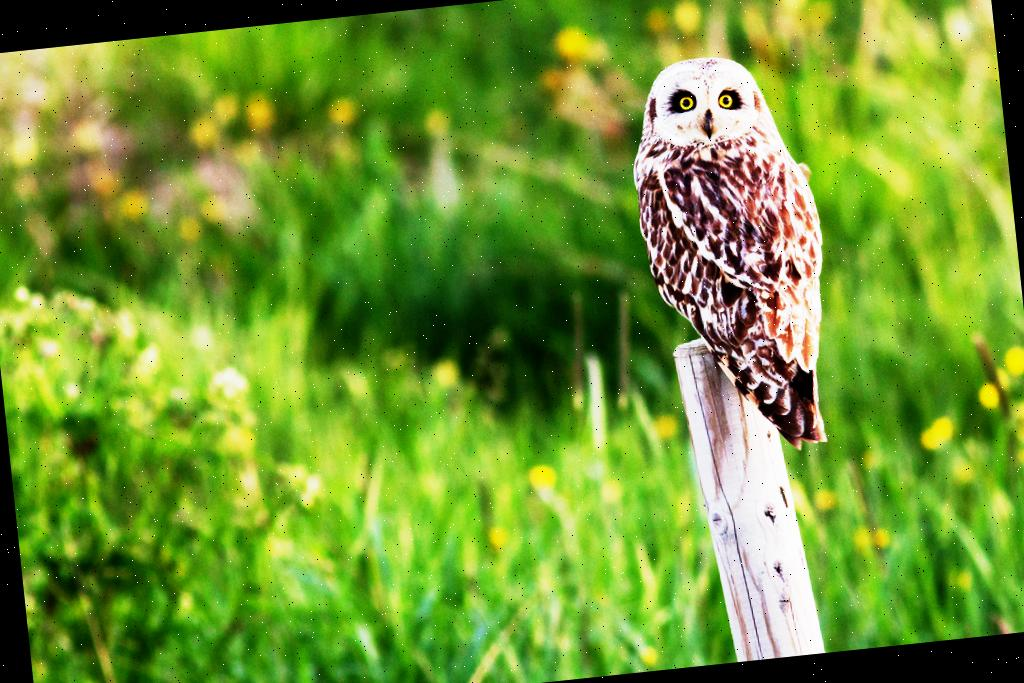Owl: (627, 38, 849, 475)
